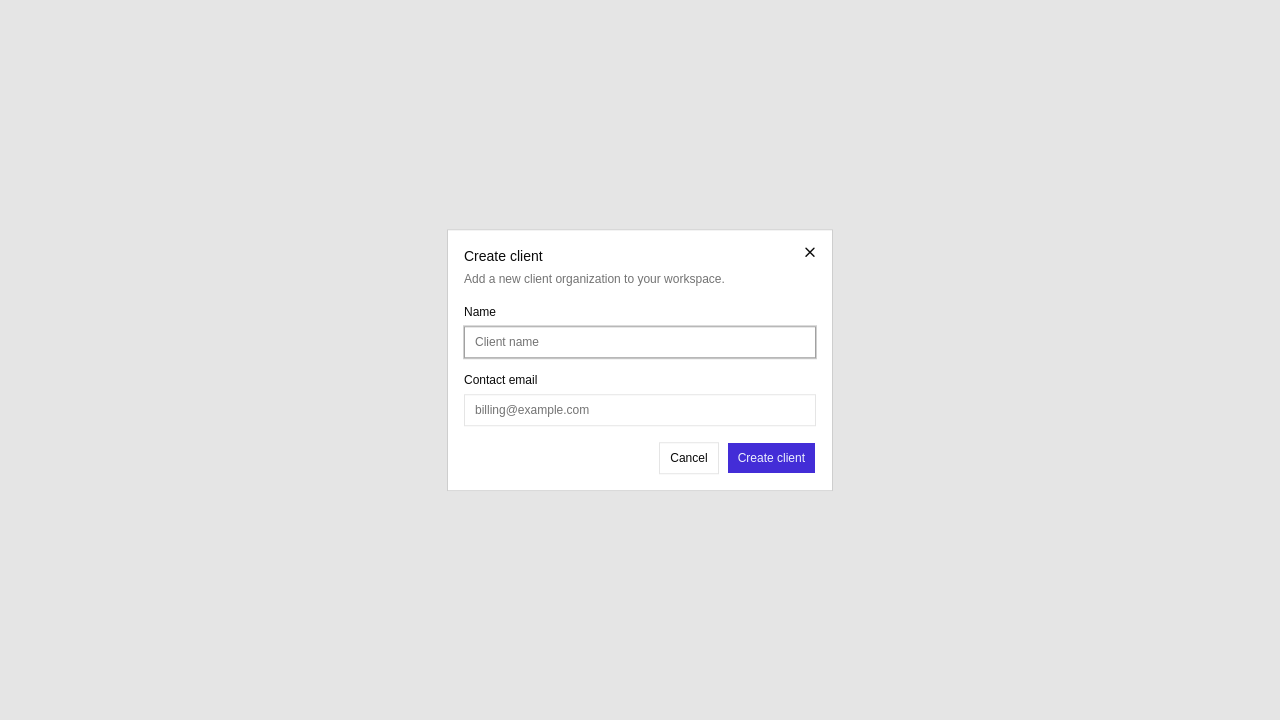
Test case: ClientFormDialog › disables submit while pending
Type "Pending Client" into the field labelled "Name" at (640, 342), box [464,326,816,358]
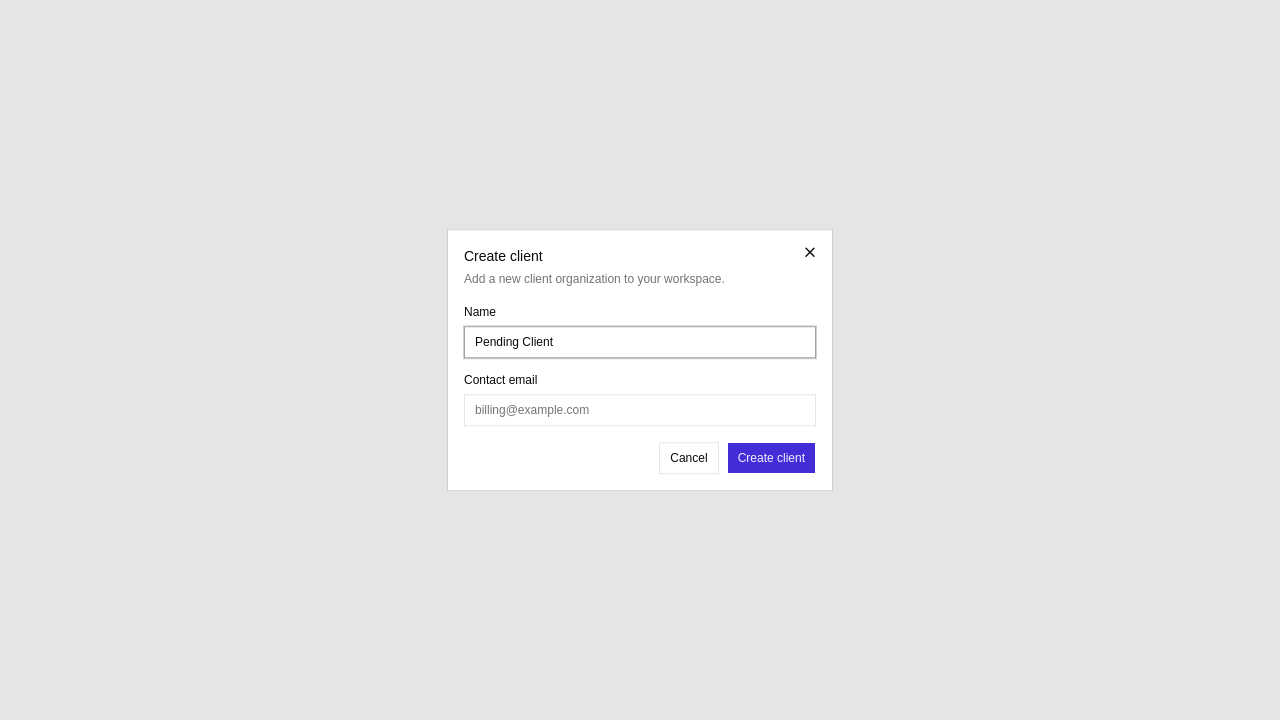
Click the button "Create client" at (771, 458), box [727,442,816,474]
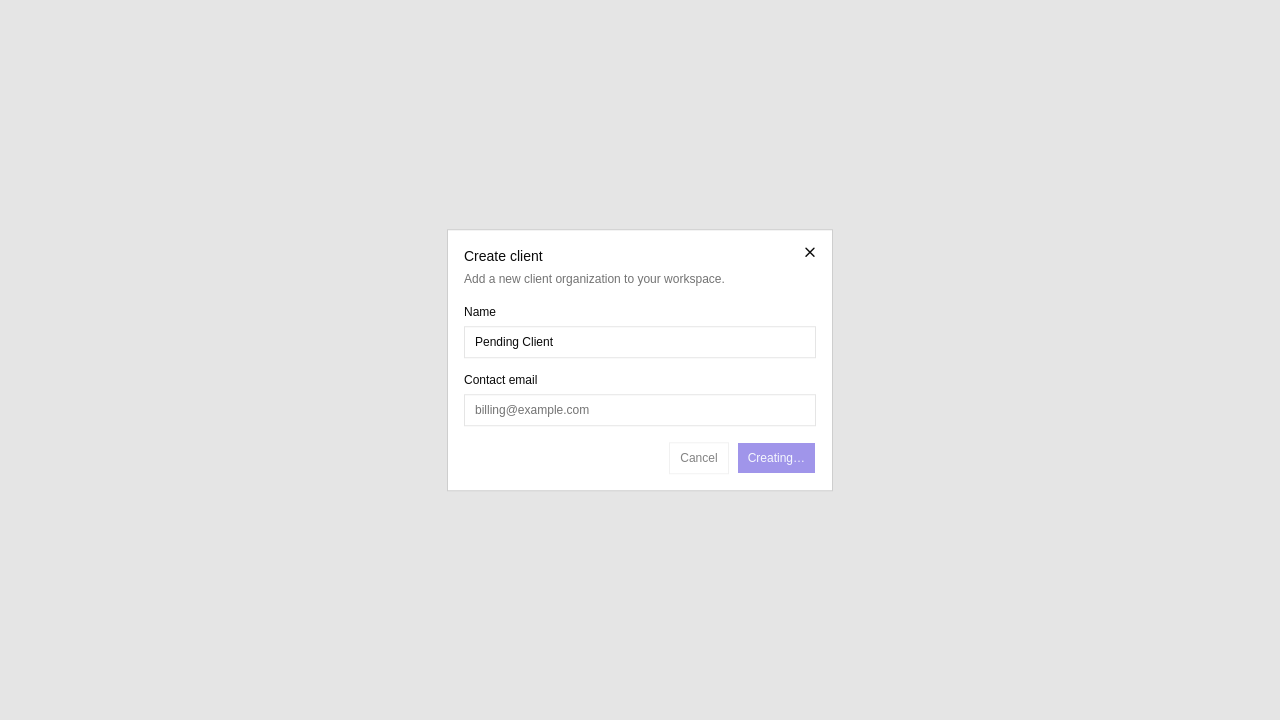
Result: the button "Creating…" is disabled at [737,442,816,474]
